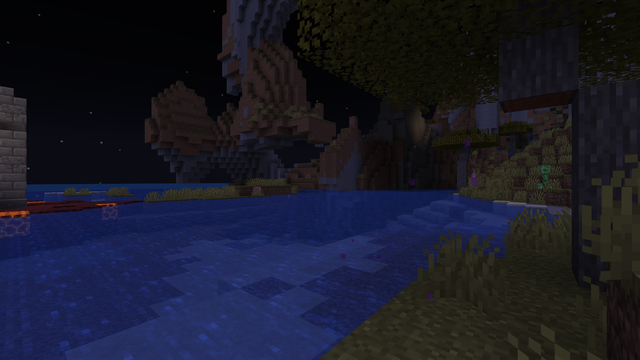cochons: (253, 186, 262, 195)
creepers: (539, 163, 550, 188)
